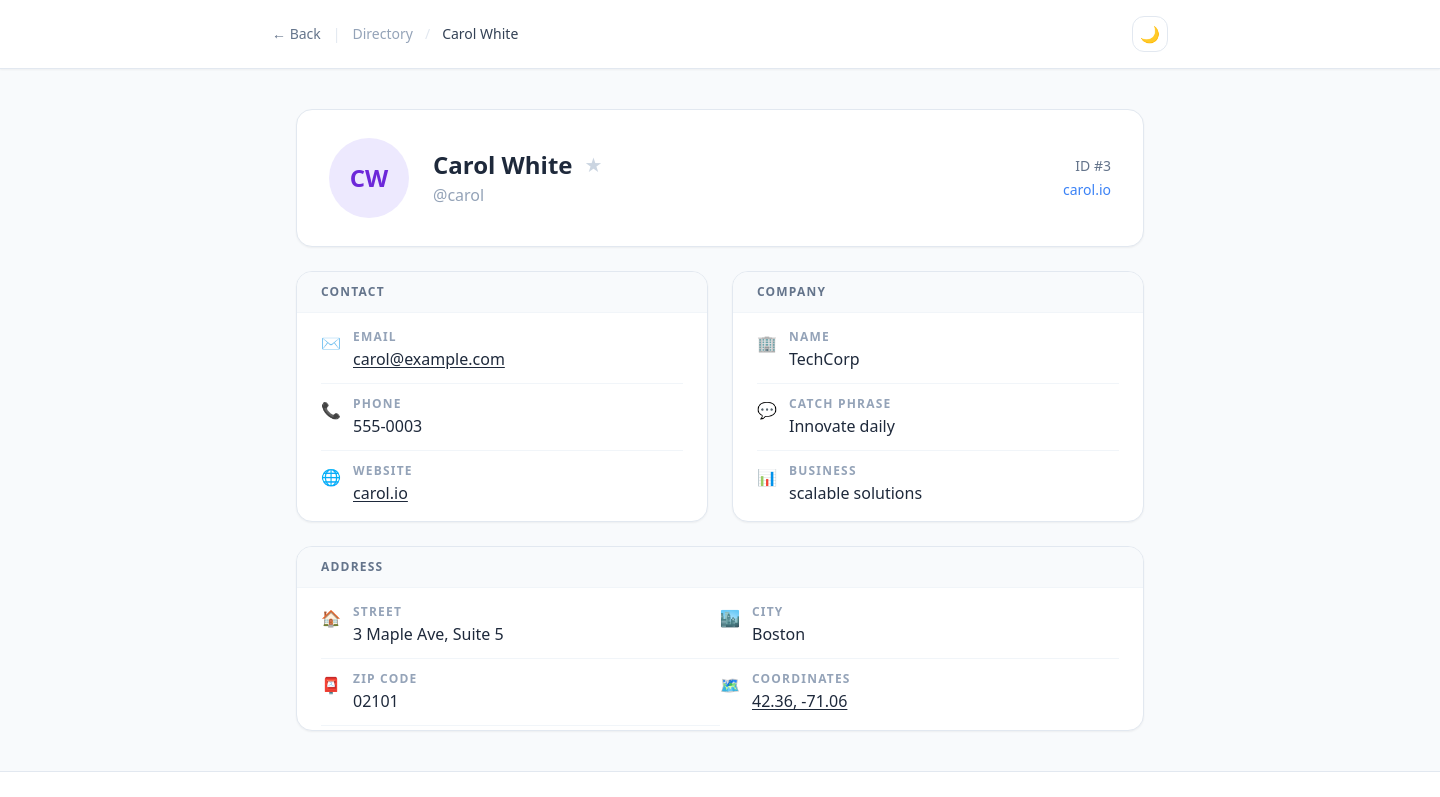
Test: UserDetail page › toggles favorite when star button is clicked
Expected: the heading "Carol White" is shown, [433,149,572,181]
Click the button named "add to favorites" at [593, 165], box [584,151,602,179]
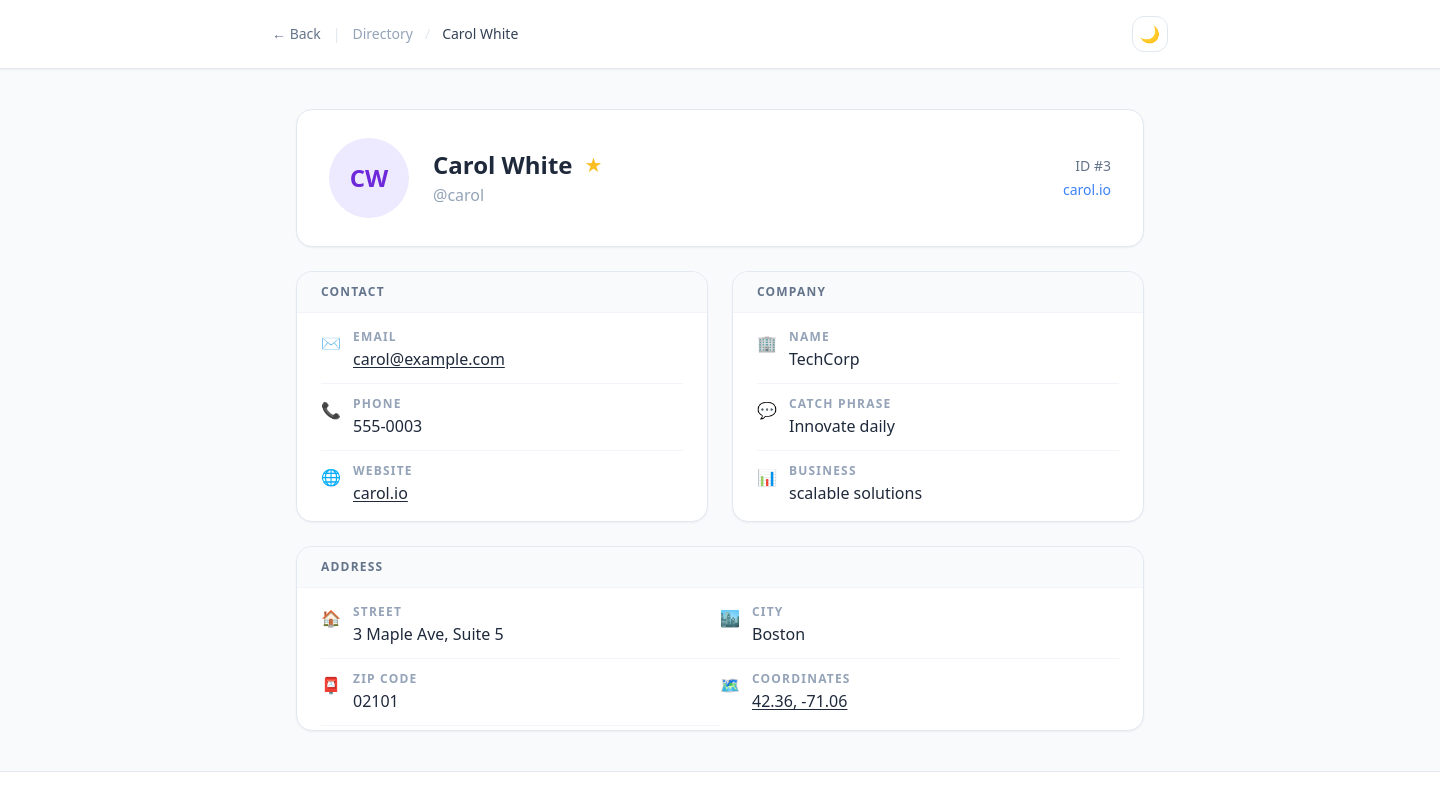
Now the button named "remove from favorites" is shown, box [584,151,602,179]
